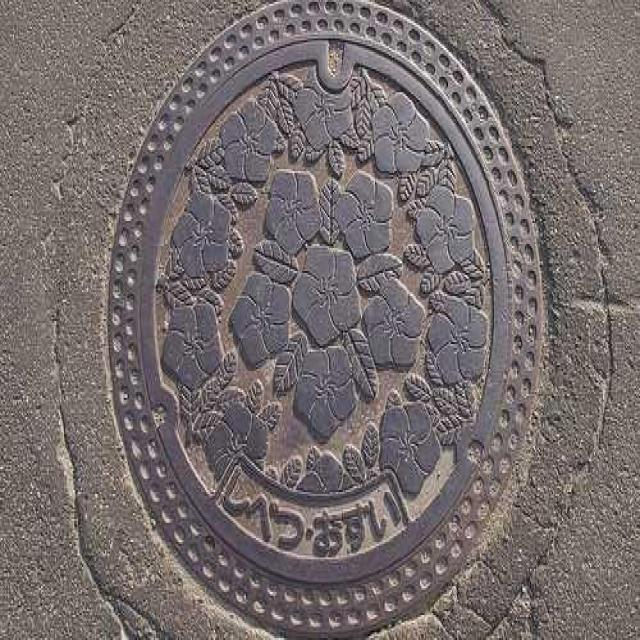manhole: (110, 4, 542, 636)
